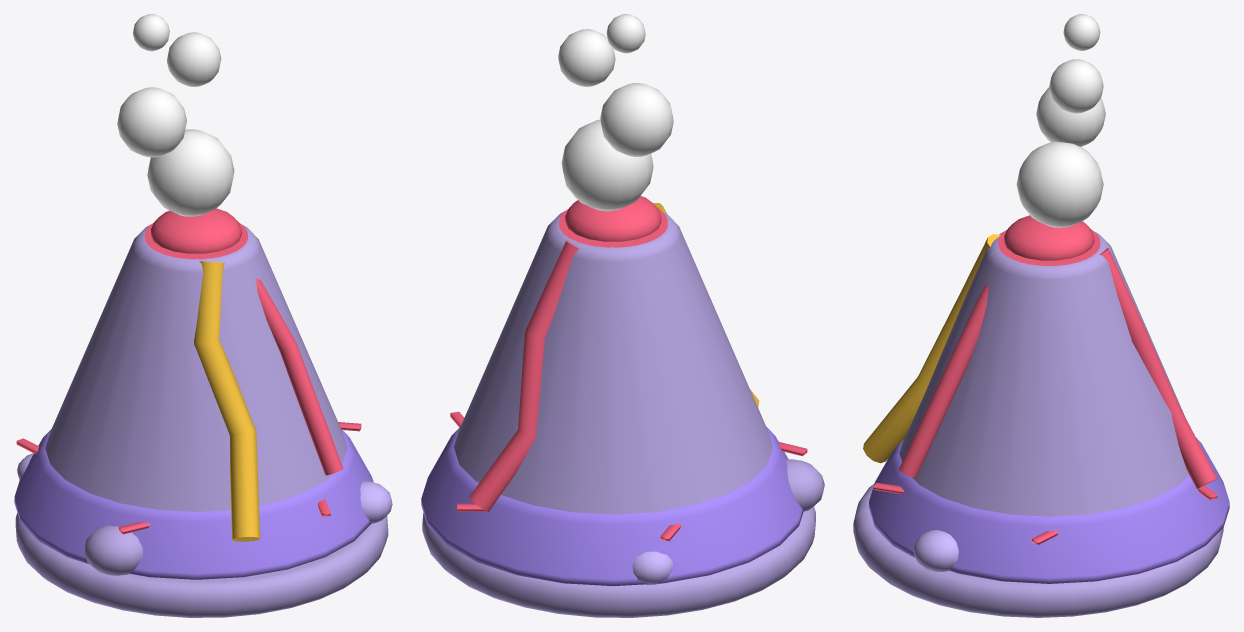
Rendered from DecorVolcano.fbx.
The picture shows the model from 3 angles, left to right: view 1: azimuth 30°, elevation 25°; view 2: azimuth 150°, elevation 25°; view 3: azimuth 270°, elevation 25°; orthographic projection. The views are drawn at different scales.
Parts seen in each view (by area): view 1: DecorVolcano mesh; view 2: DecorVolcano mesh; view 3: DecorVolcano mesh.
Part boxes in pixels (bbox=[...]): DecorVolcano mesh: bbox=[14, 14, 392, 617]; DecorVolcano mesh: bbox=[421, 14, 824, 617]; DecorVolcano mesh: bbox=[853, 14, 1229, 617].
Bounding box in the file's own units: 0.34 × 0.522 × 0.3457.
